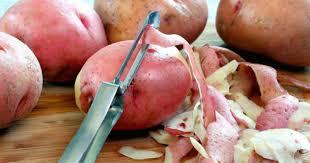Organic: (4, 2, 310, 163)
